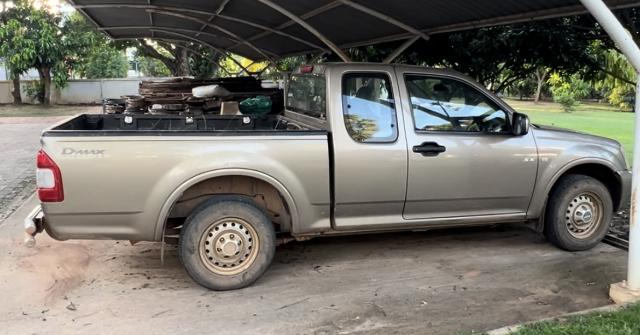pickup-truck: (22, 59, 632, 289)
